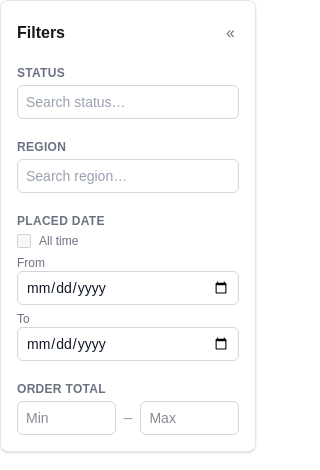
Test case: FilterSidebar › shows 'No matches.' when the search matches nothing
Type "zzz" into the dropdown with test id "filter-status-search" at x=128, y=102, box x1=17 y1=85 x2=239 y2=119
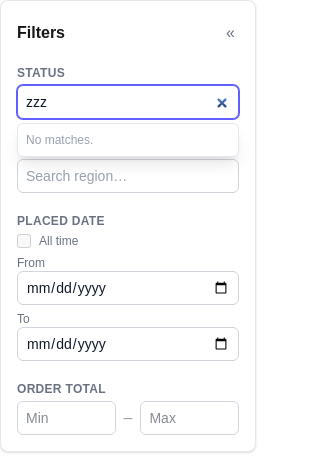
Expected: the text "No matches." is shown, x1=26 y1=133 x2=93 y2=147
